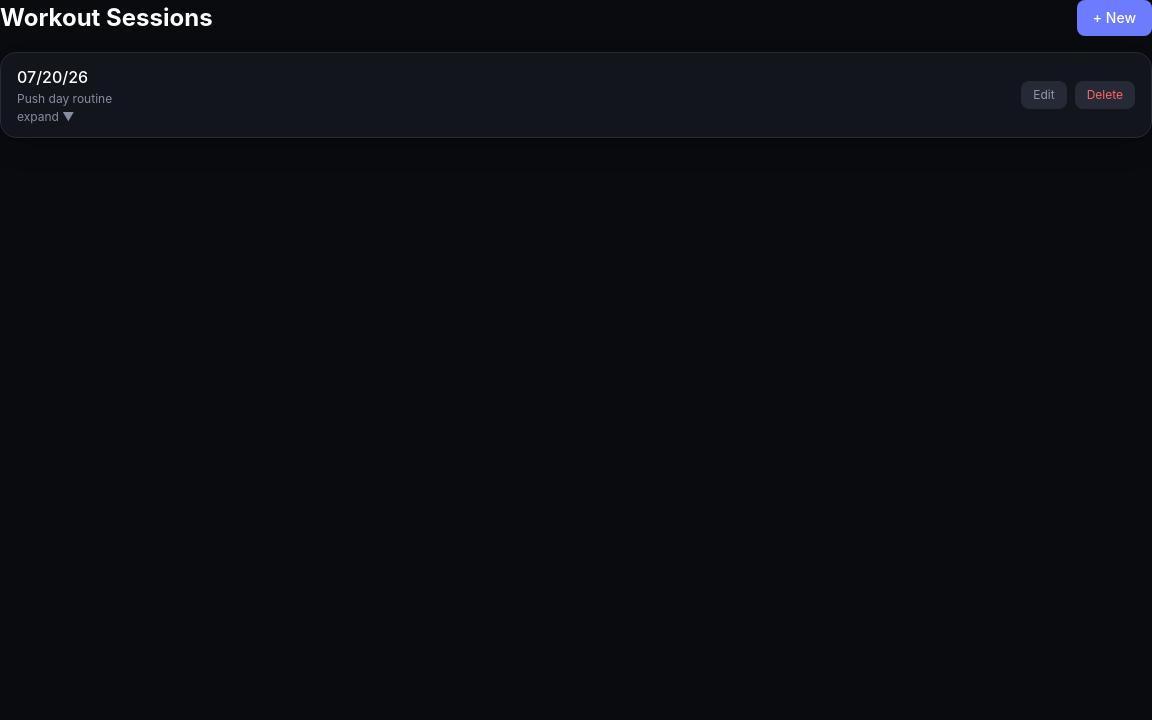
Test: WorkoutSessionsPage editing › opens the logger prefilled with the logged sets, skipping routine choice
Click the button "Edit": (1044, 95) [1021,81,1067,109]
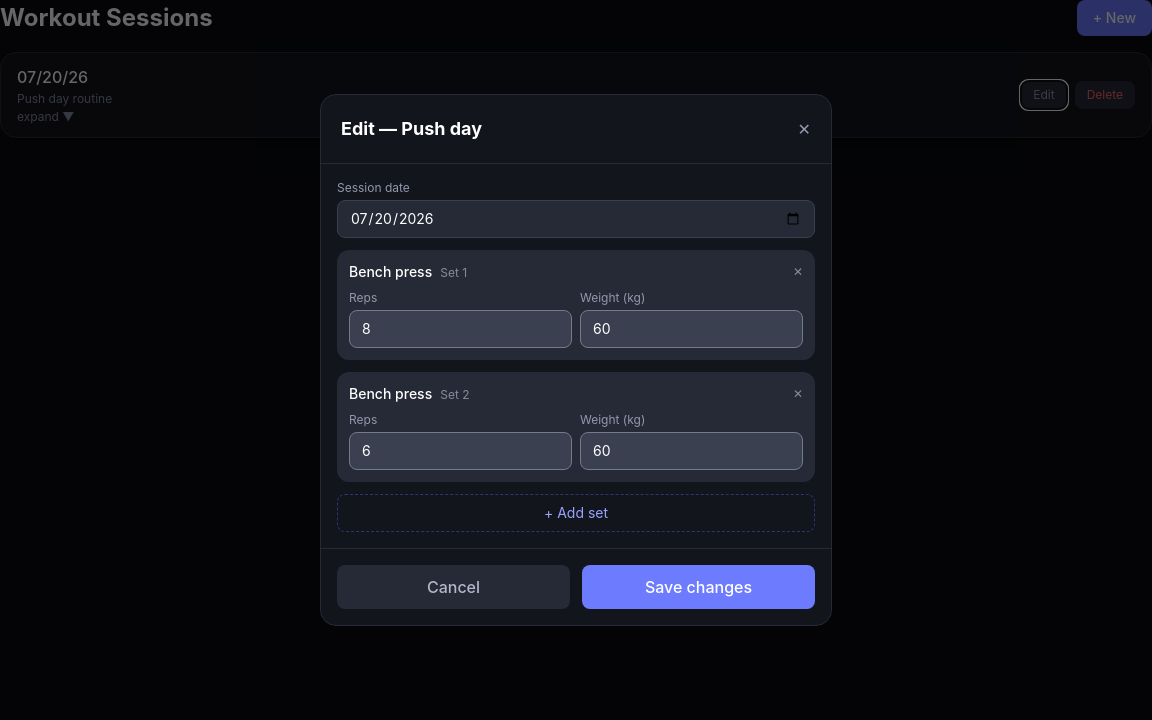
Now the heading "Edit — Push day" is shown, box [341,115,482,143]
